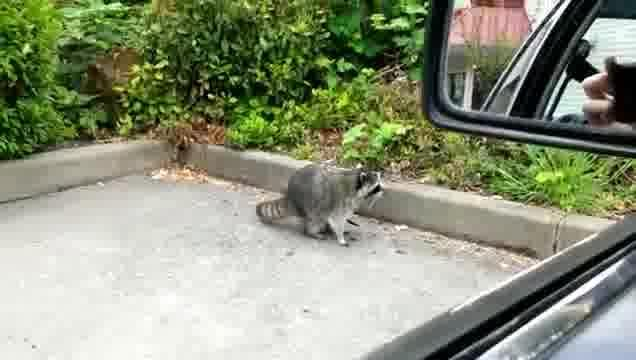raccoon: (255, 166, 385, 249)
